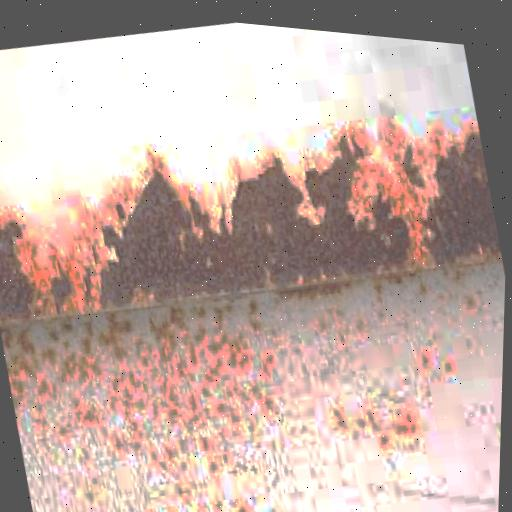corrosion: (0, 39, 509, 375)
